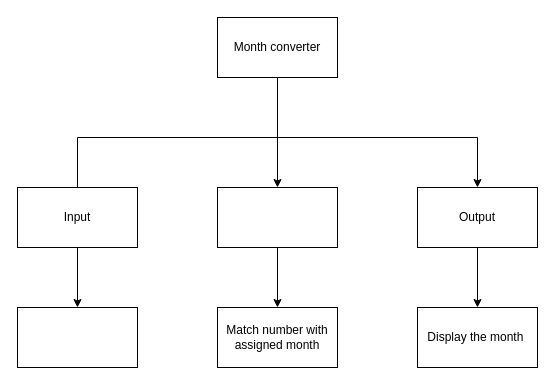
The diagram is 555 pixels wide and 385 high, and some of its shapes have lost their labels. The shapes that lost their labels are listed below. From the top down, each one's centre as x and y in pixels, then its label:
At pixel 277 217: "Process".
At pixel 77 337: "User enters number from 1-12".
